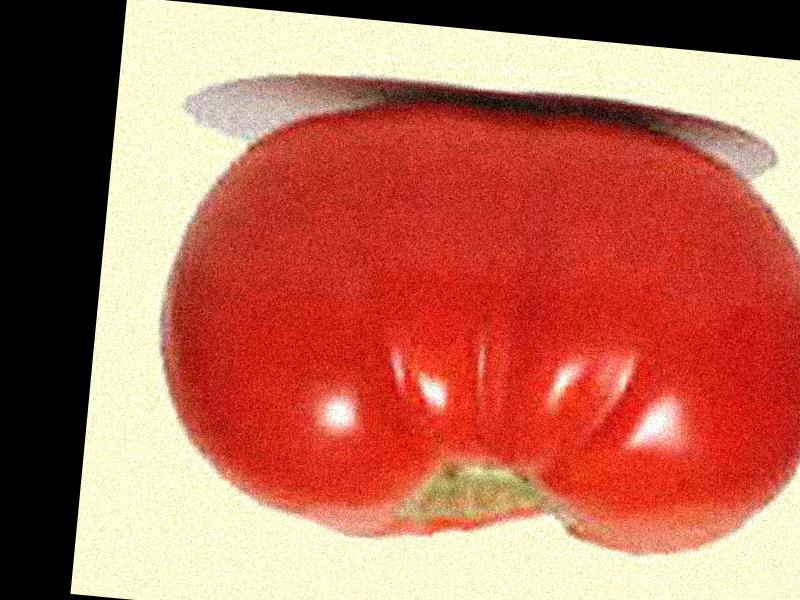Tomato: (145, 81, 800, 579)
